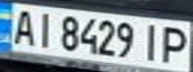2: (93, 17, 118, 57)
4: (75, 15, 100, 55)
8: (54, 12, 81, 52)
9: (115, 18, 139, 60)
A: (6, 7, 39, 46)
I: (136, 20, 166, 62), (30, 9, 57, 48)
P: (157, 22, 193, 65)
